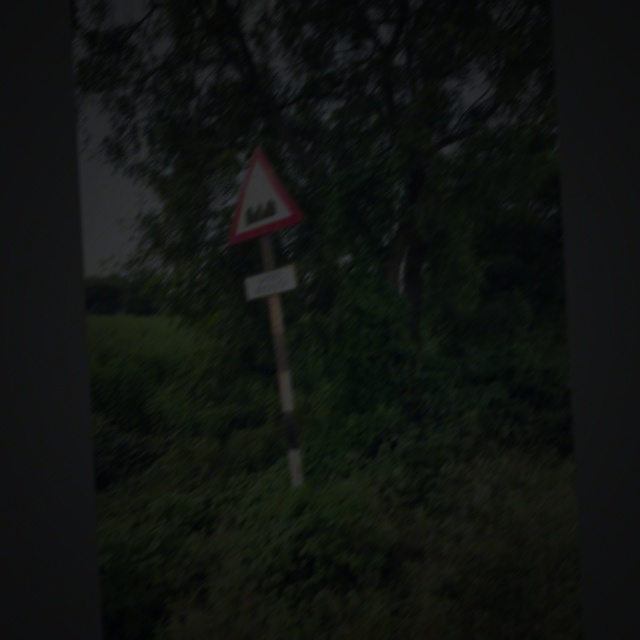Hump_or_Rough_Road: (221, 142, 307, 242)
